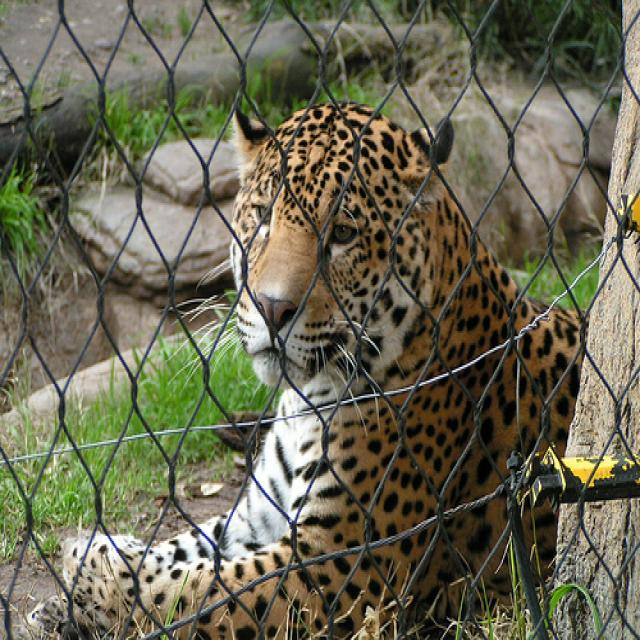Leopard: (26, 103, 580, 636)
